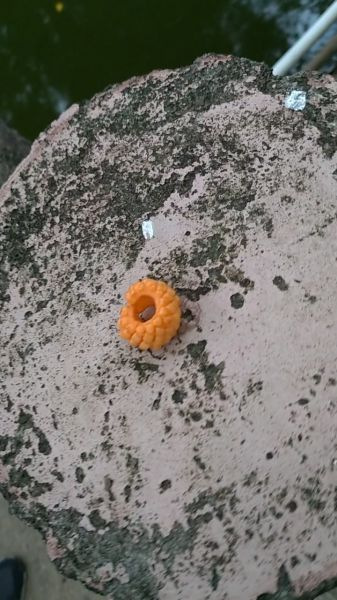eggs: (115, 277, 184, 350)
